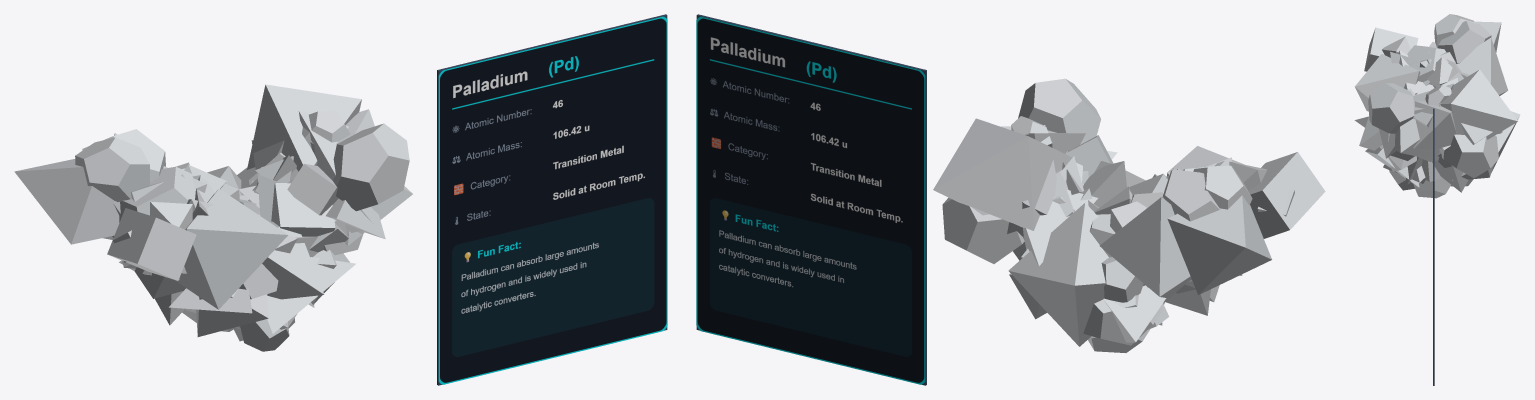
Rendered from palladium.glb.
3 renders of one model, left to right at view 1: azimuth 30°, elevation 25°; view 2: azimuth 150°, elevation 25°; view 3: azimuth 270°, elevation 25°, orthographic. The views are drawn at different scales.
Visible parts, largest first — view 1: Mesh_4, Mesh_3.030, Mesh_3.013, Mesh_2.024, Mesh_3.002, Mesh_1.015, Mesh_2.012, Mesh_3.011, Mesh_2.007, Mesh_1.021, Mesh_0.015, Mesh_1 (+13 smaller); view 2: Mesh_4.001, Mesh_3.002, Mesh_3.029, Mesh_3.013, Mesh_3.004, Mesh_1.015, Mesh_2.024, Mesh_2.016, Mesh_2.011, Mesh_0.021, Mesh_0.002, Mesh_2.012 (+15 smaller); view 3: Mesh_3.002, Mesh_2.024, Mesh_2.016, Mesh_3.030, Mesh_3.018, Mesh_3.004, Mesh_2.011, Mesh_3.007, Mesh_1.015, Mesh_2.007, Mesh_2.012, Mesh_5 (+22 smaller).
Boxes of the visible parts, x1,y1,x2,y2 form: Mesh_4: (438, 16, 667, 384); Mesh_3.030: (175, 189, 287, 309); Mesh_3.013: (14, 159, 119, 244); Mesh_2.024: (332, 123, 409, 211); Mesh_3.002: (247, 84, 361, 171); Mesh_1.015: (107, 208, 196, 280); Mesh_2.012: (75, 137, 149, 201); Mesh_3.011: (262, 221, 324, 299); Mesh_2.007: (112, 166, 214, 237); Mesh_1.021: (271, 183, 335, 236); Mesh_0.015: (267, 257, 356, 333); Mesh_1: (287, 163, 338, 215); Mesh_4.001: (696, 16, 925, 384); Mesh_3.002: (933, 118, 1076, 230); Mesh_3.029: (1008, 203, 1145, 346); Mesh_3.013: (1167, 195, 1271, 294); Mesh_3.004: (1099, 197, 1191, 298); Mesh_1.015: (1248, 152, 1325, 238); Mesh_2.024: (1018, 78, 1100, 144); Mesh_2.016: (942, 197, 1024, 263); Mesh_2.011: (1162, 169, 1219, 221); Mesh_0.021: (1103, 285, 1166, 342); Mesh_0.002: (1023, 189, 1097, 265); Mesh_2.012: (1193, 165, 1252, 209); Mesh_3.002: (1440, 69, 1517, 139); Mesh_2.024: (1368, 83, 1414, 133); Mesh_2.016: (1443, 134, 1498, 178); Mesh_3.030: (1354, 54, 1420, 111); Mesh_3.018: (1413, 101, 1456, 149); Mesh_3.004: (1455, 37, 1507, 95); Mesh_2.011: (1438, 20, 1491, 63); Mesh_3.007: (1393, 118, 1439, 160); Mesh_1.015: (1364, 27, 1418, 71); Mesh_2.007: (1407, 45, 1445, 84); Mesh_2.012: (1434, 14, 1475, 48); Mesh_5: (1433, 108, 1434, 385).
Size of the model in its own units: 2.1 by 1.05 by 0.7734.
3 materials, 1 textured.
